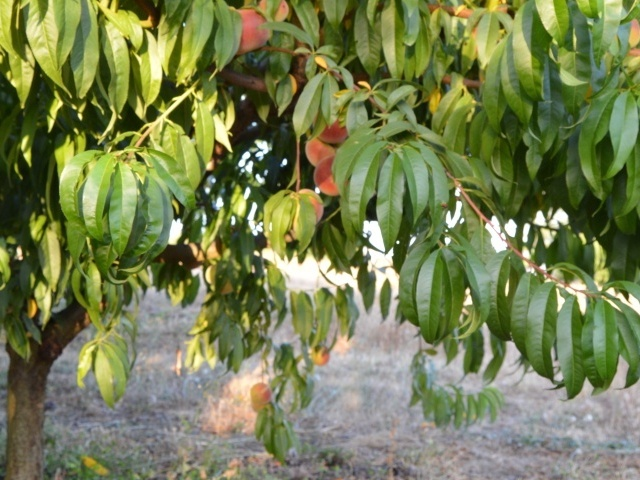peach: (230, 2, 272, 58), (296, 129, 340, 169), (313, 107, 356, 147), (311, 154, 349, 199), (294, 185, 328, 223), (306, 342, 333, 368), (248, 382, 272, 408)
